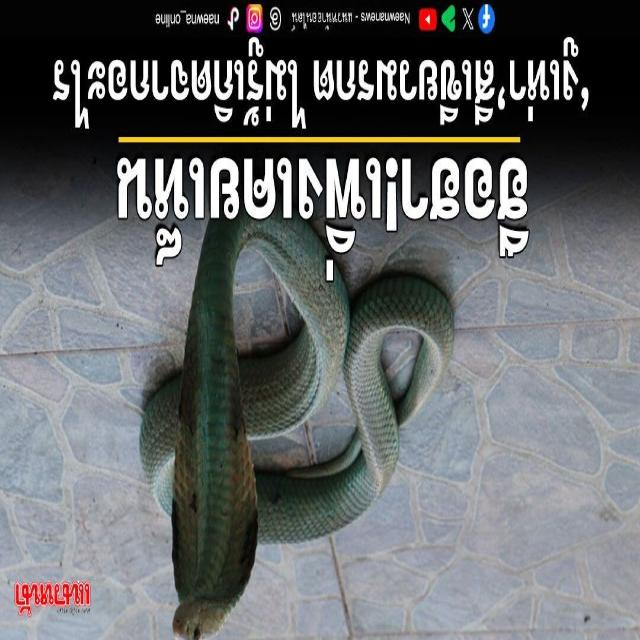Venomous: (153, 396, 269, 639)
